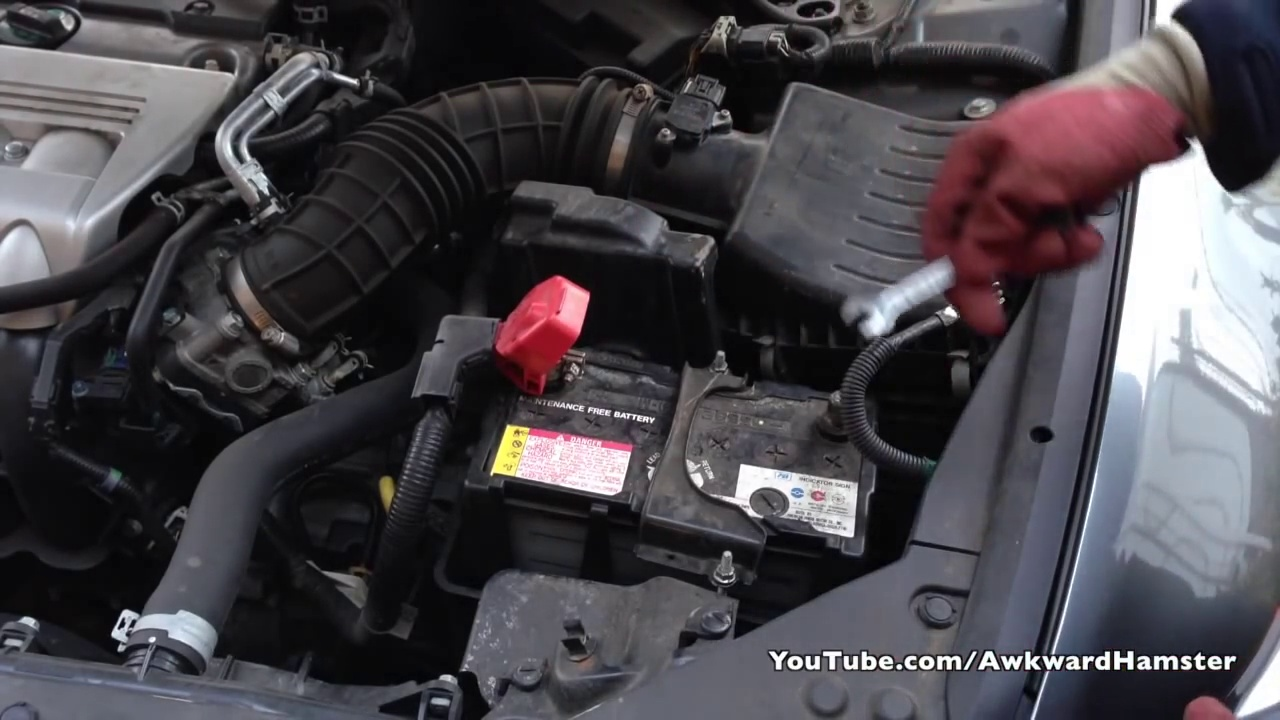battery: (453, 327, 870, 552)
neg_disconnected: (811, 356, 872, 447)
pos_connected: (468, 276, 611, 425)
